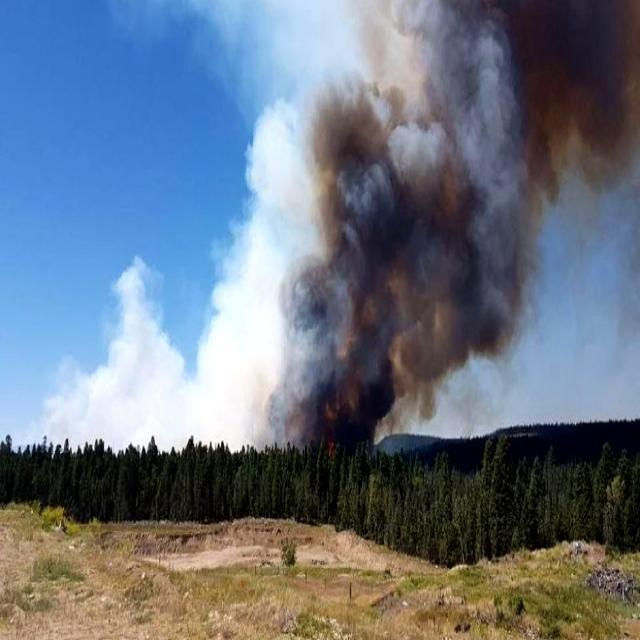Smoke: (278, 0, 639, 438)
